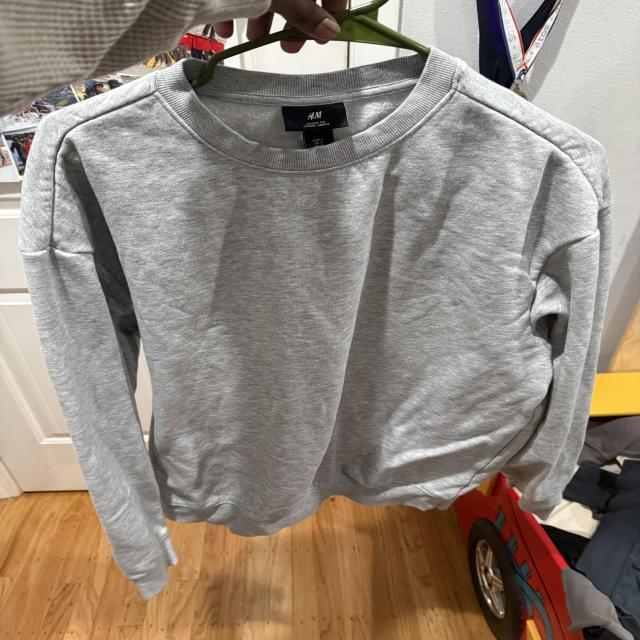back_tag: (278, 100, 354, 149)
